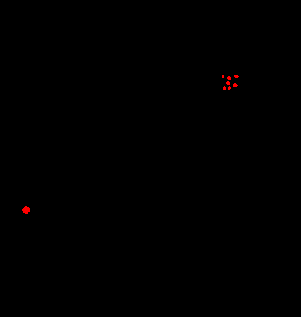Target: (22, 206, 30, 214), (233, 83, 238, 87), (227, 76, 231, 80), (226, 81, 230, 85), (234, 75, 239, 78), (223, 86, 226, 90), (228, 86, 231, 90), (222, 75, 224, 78)
